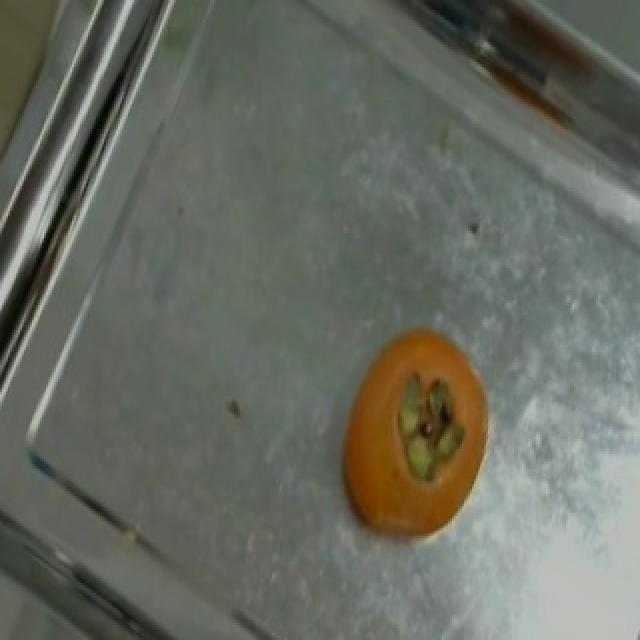Fruit: (318, 308, 516, 573)
